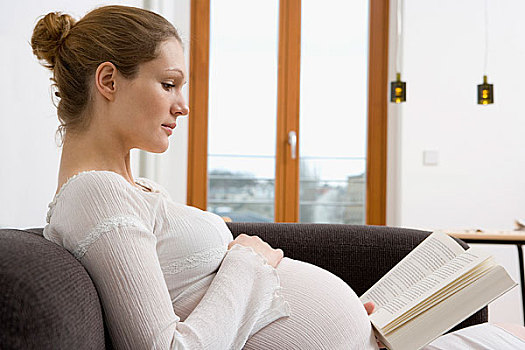book: (359, 228, 519, 350)
